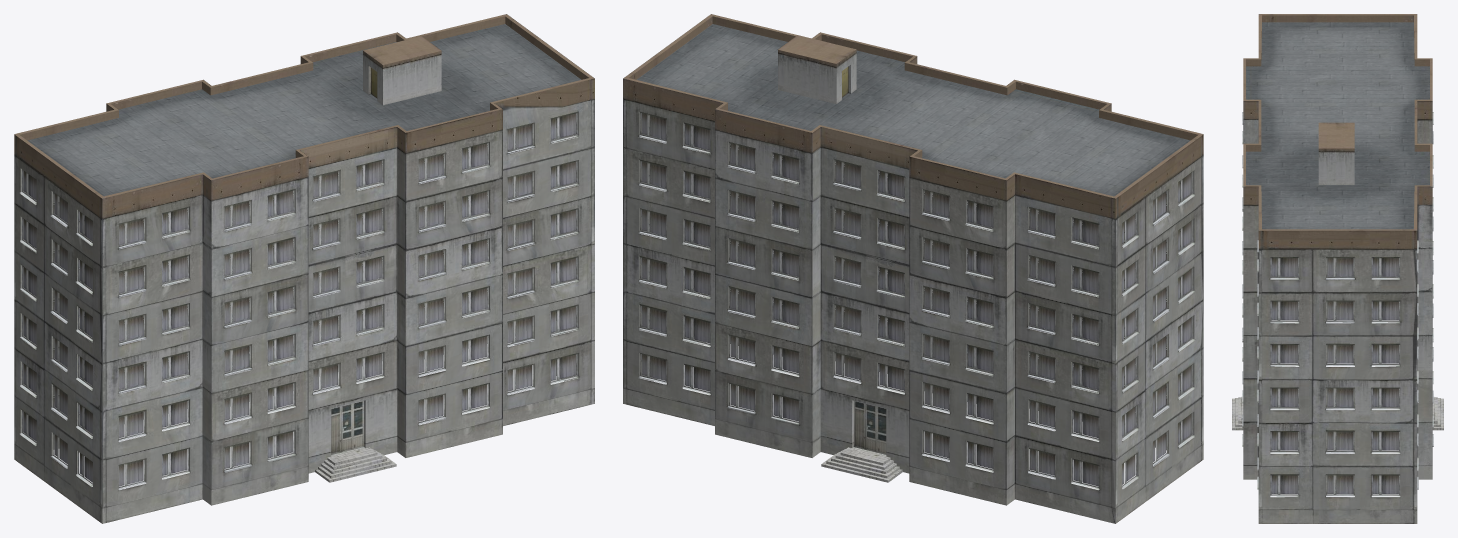
Rendered from berlin_plattenbau.gltf.
3 renders of one model, left to right at view 1: azimuth 30°, elevation 25°; view 2: azimuth 150°, elevation 25°; view 3: azimuth 270°, elevation 25°, orthographic. The views are drawn at different scales.
Visible parts, largest first — view 1: BUILDING_lambert1_0; view 2: BUILDING_lambert1_0; view 3: BUILDING_lambert1_0.
Part boxes in pixels (x1,y1,x2,y2): BUILDING_lambert1_0: [14, 14, 594, 523]; BUILDING_lambert1_0: [623, 14, 1203, 523]; BUILDING_lambert1_0: [1232, 14, 1443, 523].
Bounding box in the file's own units: 24.59 × 17 × 10.11.
Materials: 1 (1 with a texture image).
